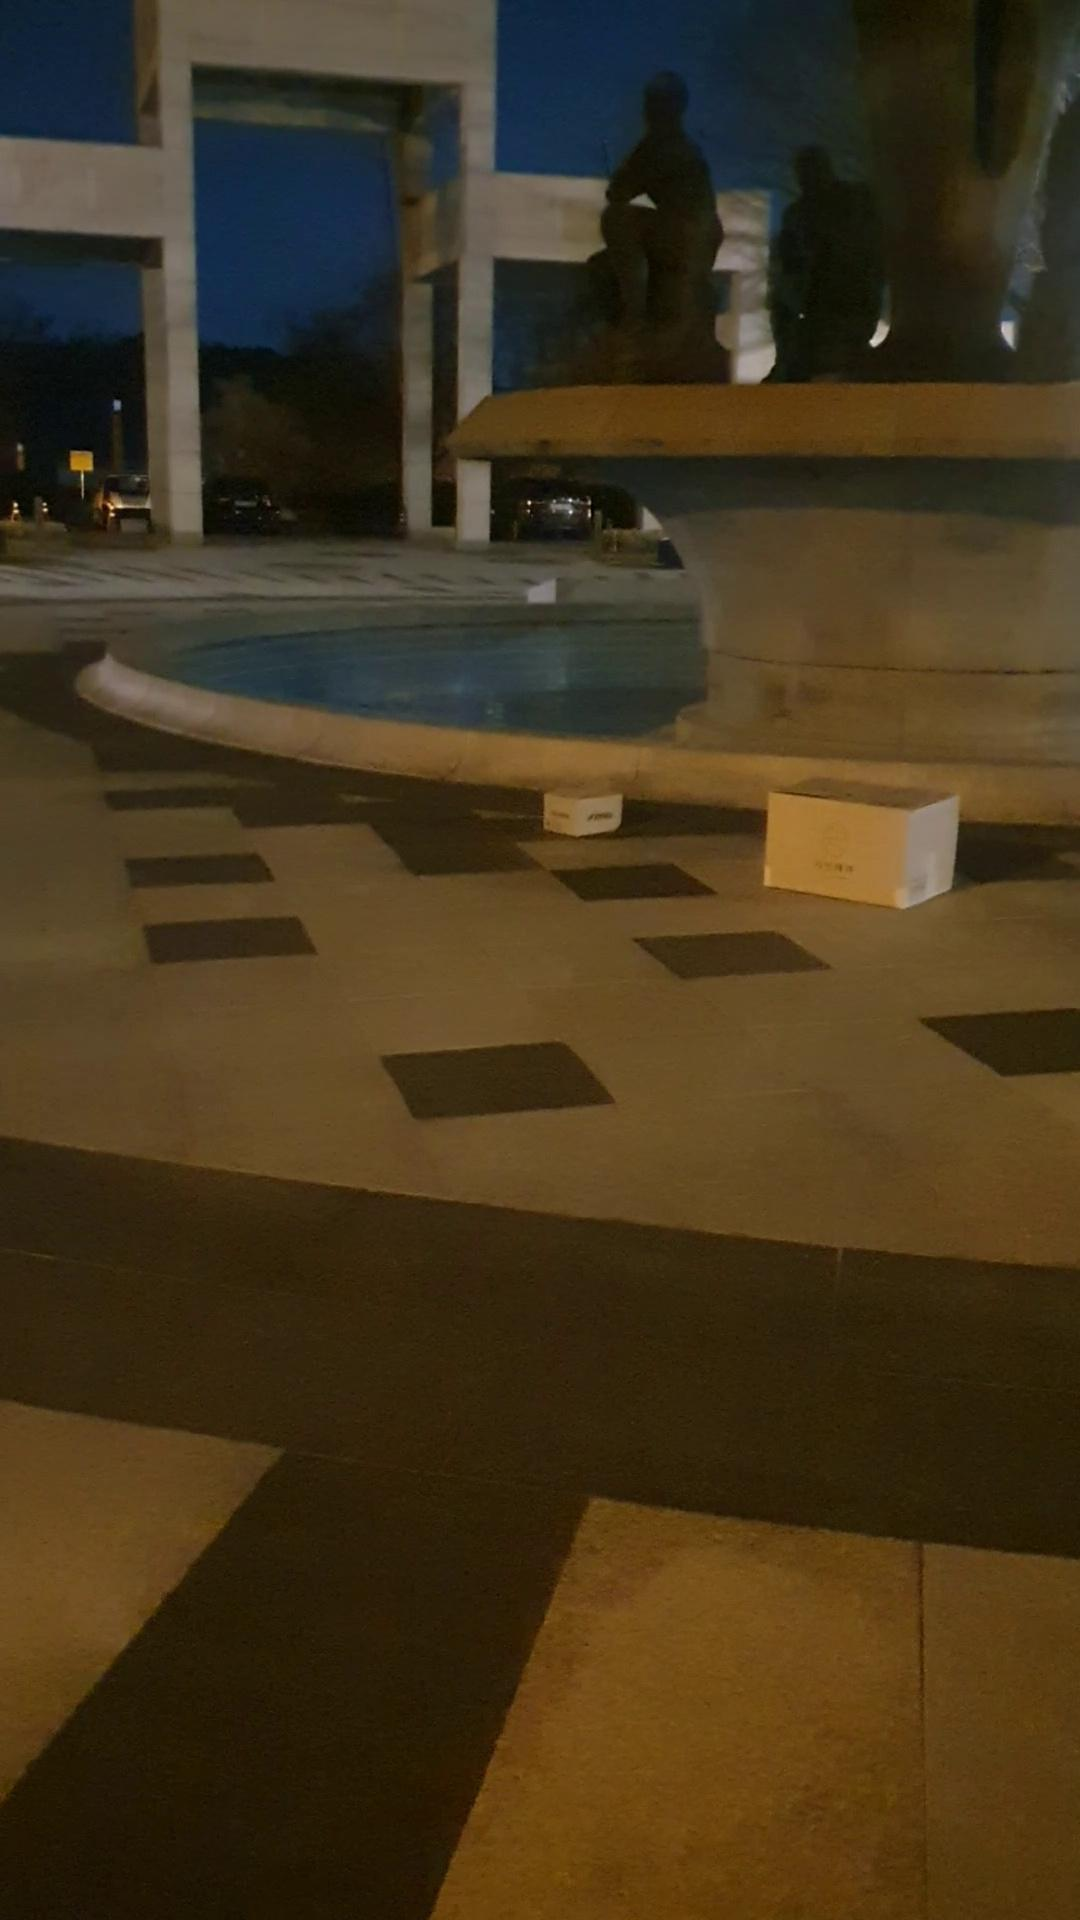Box: (741, 770, 975, 920), (535, 758, 647, 848)
